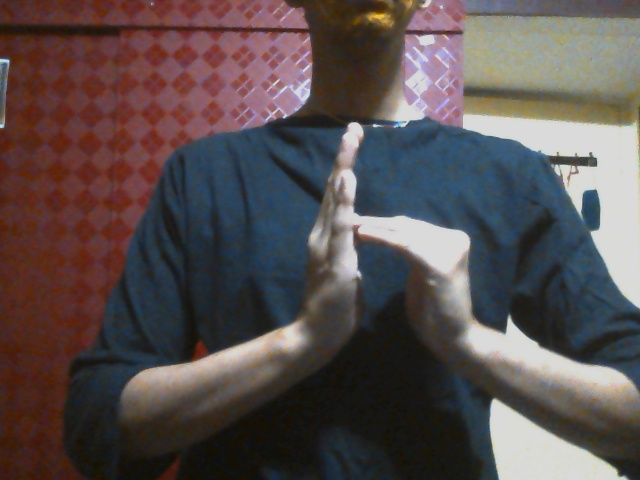Z: (277, 121, 480, 375)
